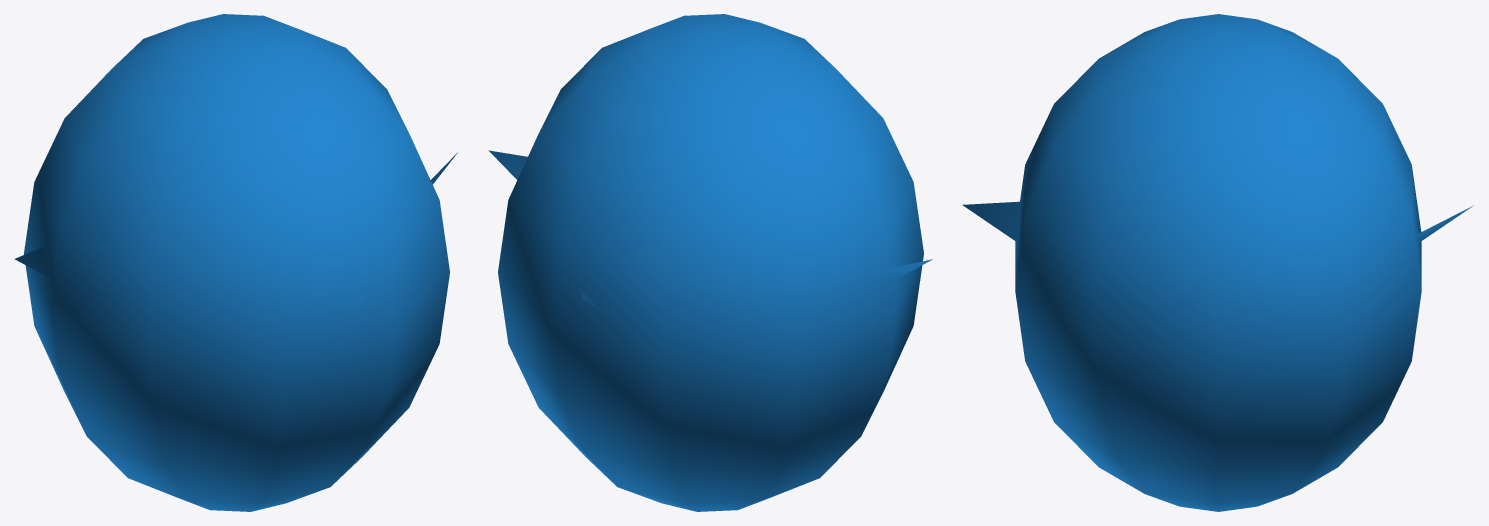
File: Marilisco_stage1.obj
The picture shows the model from 3 angles, left to right: view 1: azimuth 30°, elevation 25°; view 2: azimuth 150°, elevation 25°; view 3: azimuth 270°, elevation 25°; orthographic projection.
Size of the model in its own units: 1.92 by 1.92 by 1.92.
